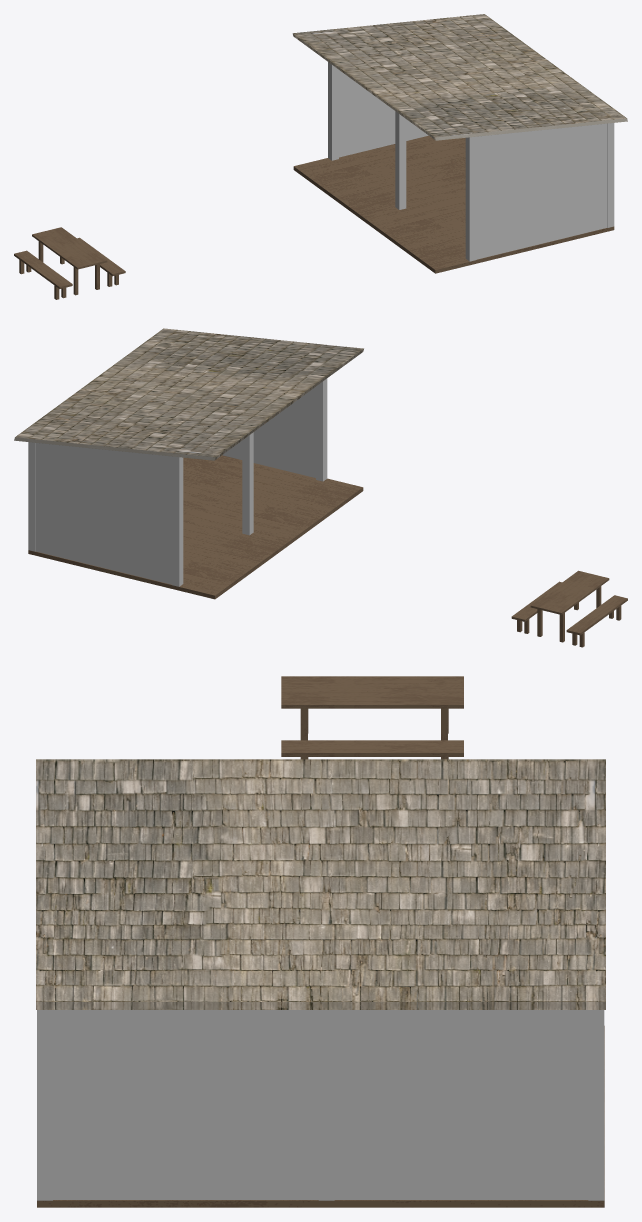
The model's file is FarmVeranda01.fbx.
The picture shows the model from 3 angles, top to bottom: view 1: azimuth 30°, elevation 25°; view 2: azimuth 150°, elevation 25°; view 3: azimuth 270°, elevation 25°; orthographic projection. The views are drawn at different scales.
Visible parts, largest first — view 1: FermHaus.022, table.006; view 2: FermHaus.022, table.006; view 3: FermHaus.022, table.006.
Boxes of the visible parts, left/top/right/bottom form: FermHaus.022: left=292, top=14, right=627, bottom=273; table.006: left=14, top=227, right=125, bottom=299; FermHaus.022: left=14, top=328, right=363, bottom=599; table.006: left=511, top=570, right=627, bottom=647; FermHaus.022: left=36, top=759, right=605, bottom=1207; table.006: left=281, top=676, right=463, bottom=759.
Bounding box in the file's own units: 1468 × 378 × 715.
